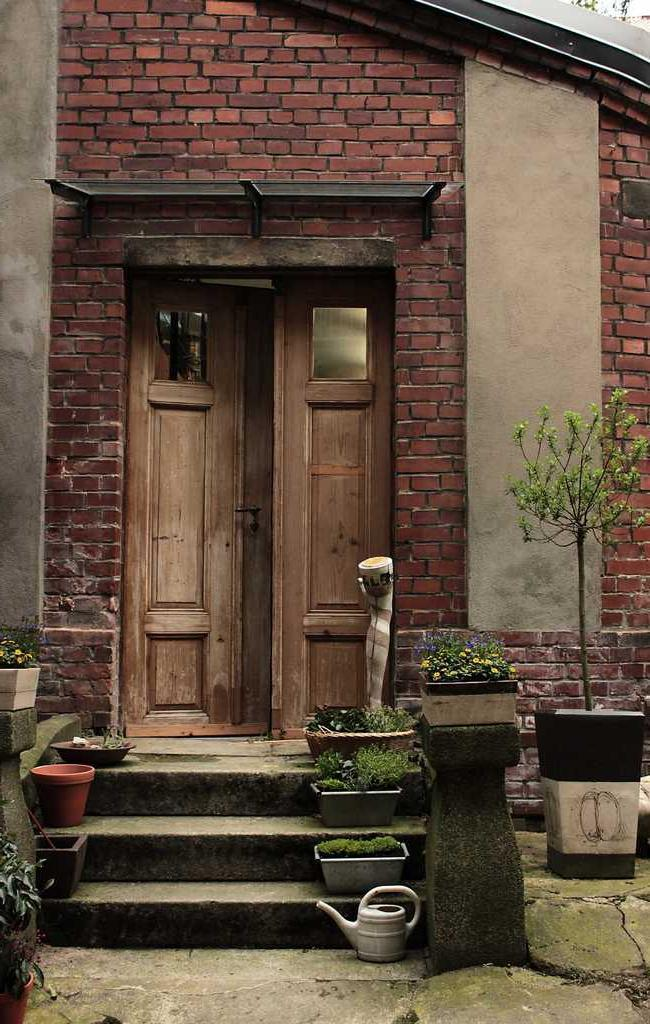door: (129, 313, 272, 725), (284, 302, 382, 718)
handle: (234, 495, 261, 529)
